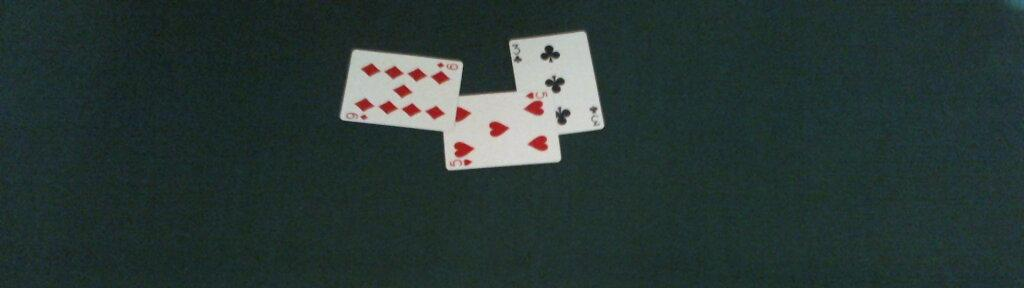five: (443, 88, 562, 172)
nine: (337, 47, 463, 132)
three: (509, 30, 604, 134)
